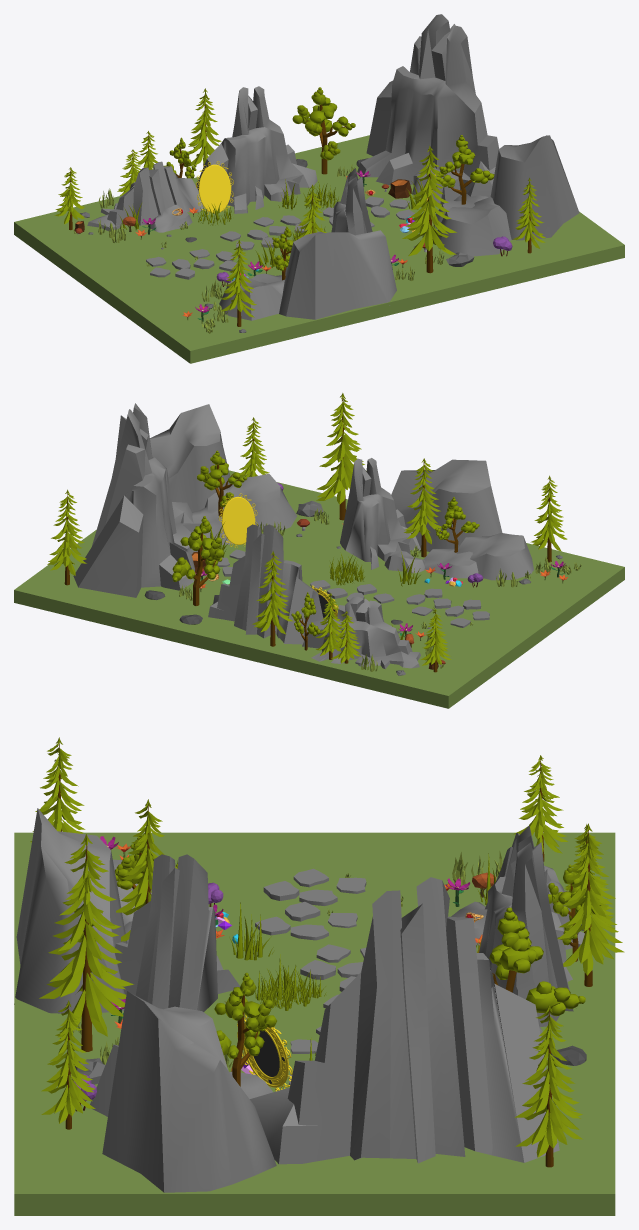
File: vanity.fbx
3 views of the same model, one above another, from view 1: azimuth 30°, elevation 25°; view 2: azimuth 150°, elevation 25°; view 3: azimuth 270°, elevation 25° (orthographic). The views are drawn at different scales.
Visible parts, largest first — view 1: ground, rockBig, rock2, rock2.001, tree2.001, tree1, Mirror.001, tree1.001, rock1, tree2.004, rock1.001, tree2.005 (+8 smaller); view 2: ground, rockBig, rock2, rock2.001, tree2.001, tree1, tree2, tree2.003, tree2.005, Mirror.003, rock1, tree2.004 (+9 smaller); view 3: ground, rockBig, rock2, rock2.001, tree2.001, tree2.003, tree2.005, rock1, tree1, tree1.001, tree2.002, tree2 (+8 smaller).
Part boxes in pixels (left/top/right/bottom): ground: left=14, top=135, right=624, bottom=363; rockBig: left=357, top=14, right=579, bottom=256; rock2: left=219, top=168, right=396, bottom=320; rock2.001: left=87, top=86, right=317, bottom=232; tree2.001: left=402, top=145, right=456, bottom=273; tree1: left=292, top=87, right=355, bottom=174; Mirror.001: left=196, top=161, right=233, bottom=214; tree1.001: left=436, top=135, right=494, bottom=204; rock1: left=146, top=249, right=236, bottom=279; tree2.004: left=221, top=240, right=256, bottom=326; rock1.001: left=220, top=215, right=306, bottom=250; tree2.005: left=188, top=88, right=221, bottom=166; ground: left=14, top=470, right=624, bottom=708; rockBig: left=73, top=403, right=296, bottom=597; rock2: left=340, top=458, right=533, bottom=580; rock2.001: left=208, top=524, right=420, bottom=668; tree2.001: left=316, top=393, right=364, bottom=520; tree1: left=172, top=516, right=224, bottom=605; tree2: left=404, top=458, right=441, bottom=557; tree2.003: left=47, top=489, right=86, bottom=585; tree2.005: left=252, top=551, right=293, bottom=646; Mirror.003: left=218, top=493, right=257, bottom=547; rock1: left=406, top=588, right=489, bottom=627; tree2.004: left=530, top=475, right=567, bottom=562; ground: left=14, top=832, right=615, bottom=1215; rockBig: left=90, top=877, right=559, bottom=1192; rock2: left=14, top=808, right=240, bottom=1013; rock2.001: left=451, top=826, right=584, bottom=1042; tree2.001: left=39, top=834, right=133, bottom=1051; tree2.003: left=514, top=1004, right=582, bottom=1167; tree2.005: left=557, top=823, right=624, bottom=986; rock1: left=255, top=868, right=366, bottom=940; tree1: left=489, top=907, right=585, bottom=1016; tree1.001: left=214, top=972, right=276, bottom=1086; tree2.002: left=41, top=1000, right=95, bottom=1129; tree2: left=116, top=799, right=164, bottom=941.
Size of the model in its own units: 77.48 by 28.8 by 55.34.
13 materials, 3 textured.
